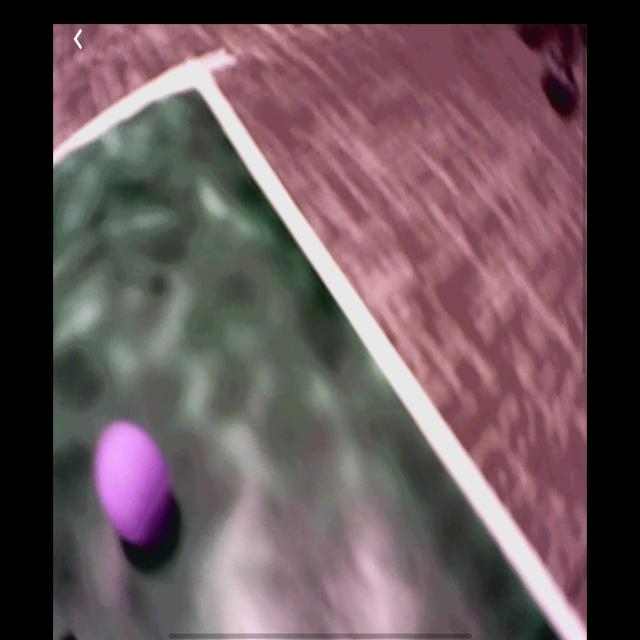ball: (94, 417, 171, 543)
